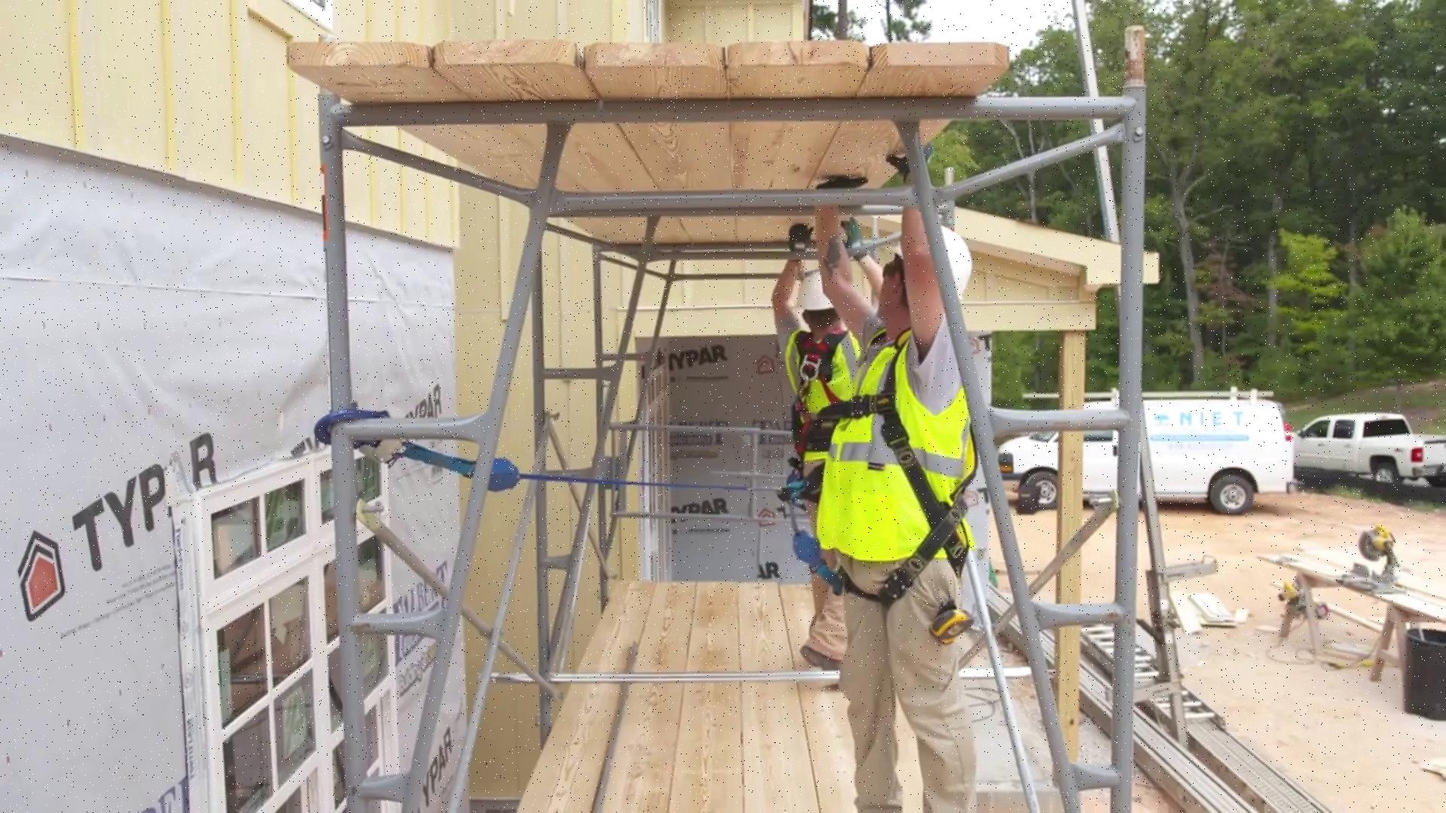Vest: (809, 330, 986, 572), (773, 319, 869, 459)
